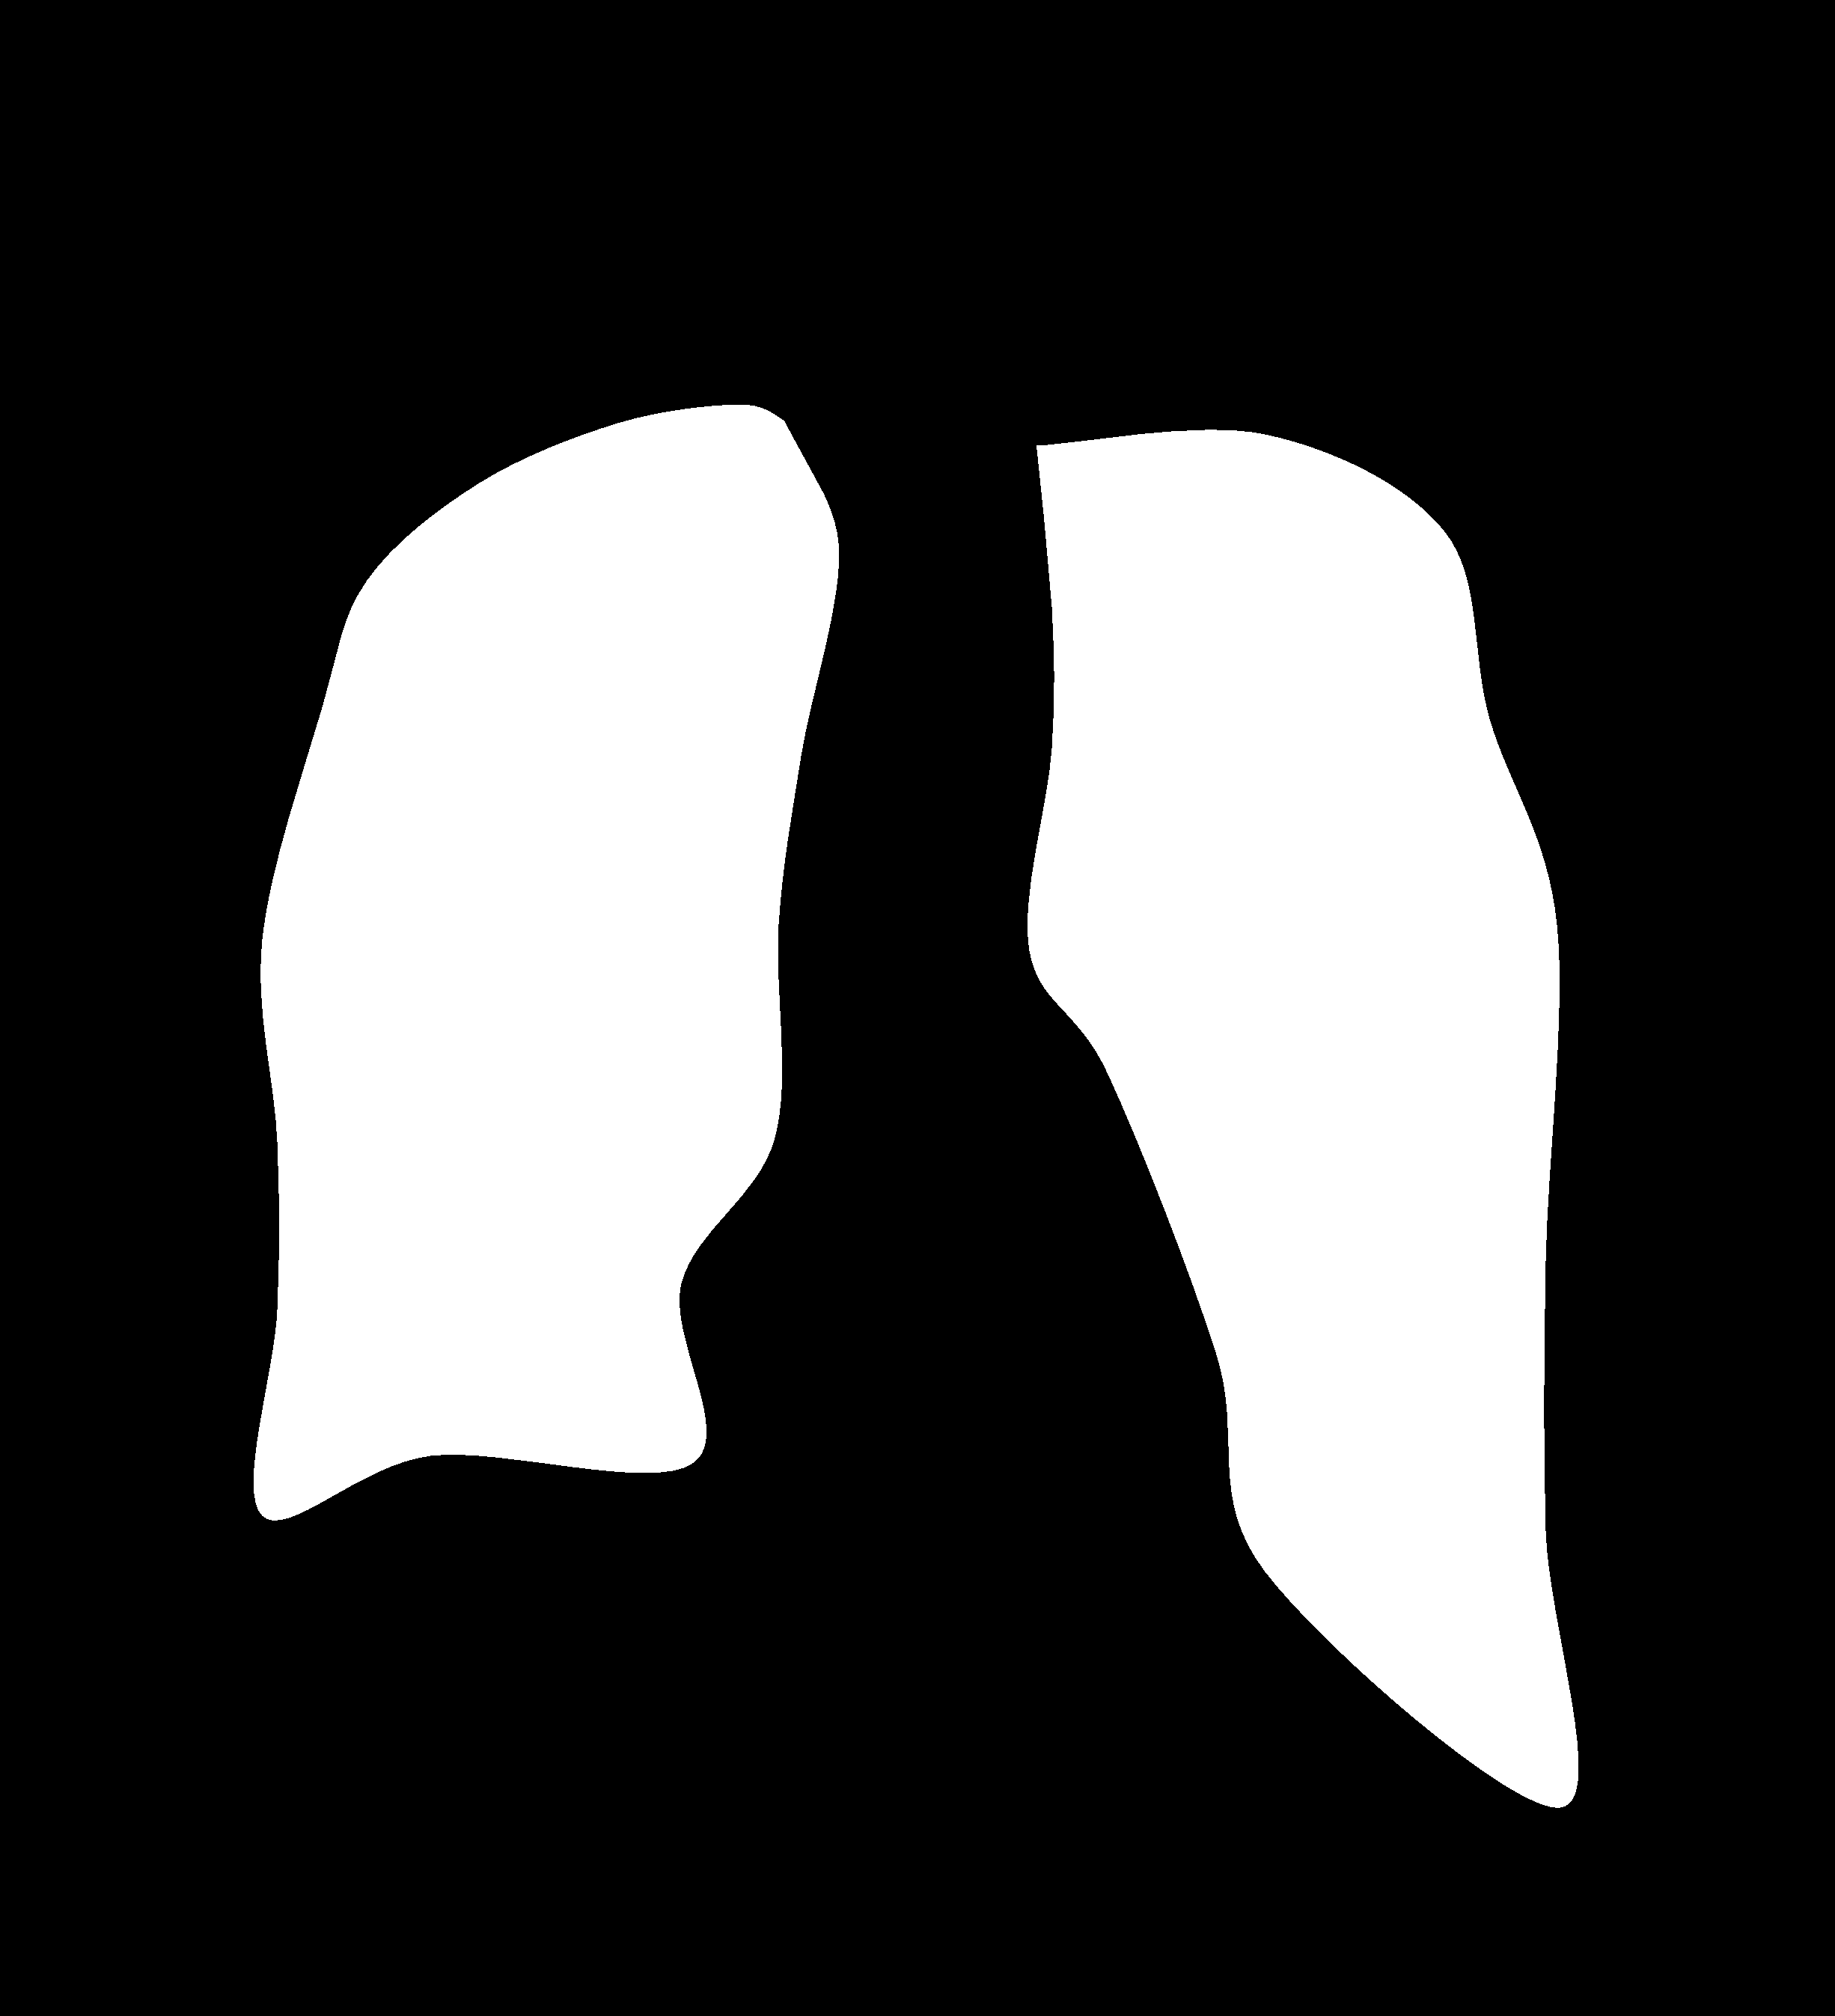heart: (687, 1096, 1278, 1624)
left_lung: (253, 406, 838, 1519)
right_lung: (1027, 430, 1579, 1809)
